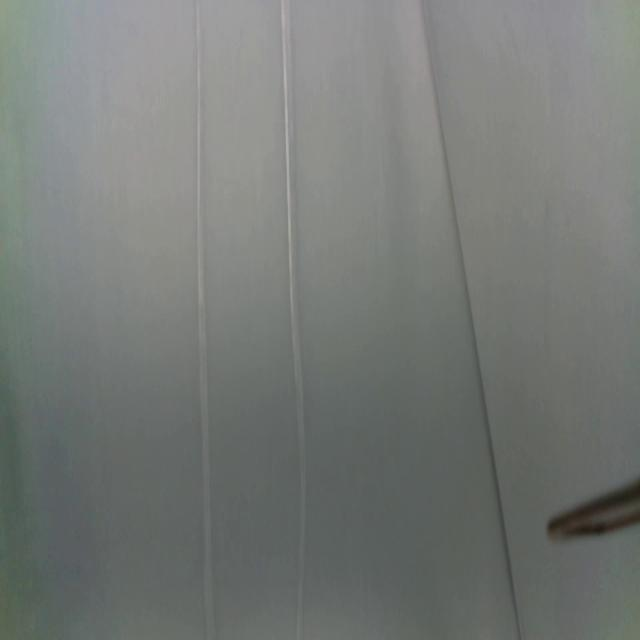crease: (420, 1, 522, 640), (280, 0, 308, 640), (192, 0, 216, 640)
